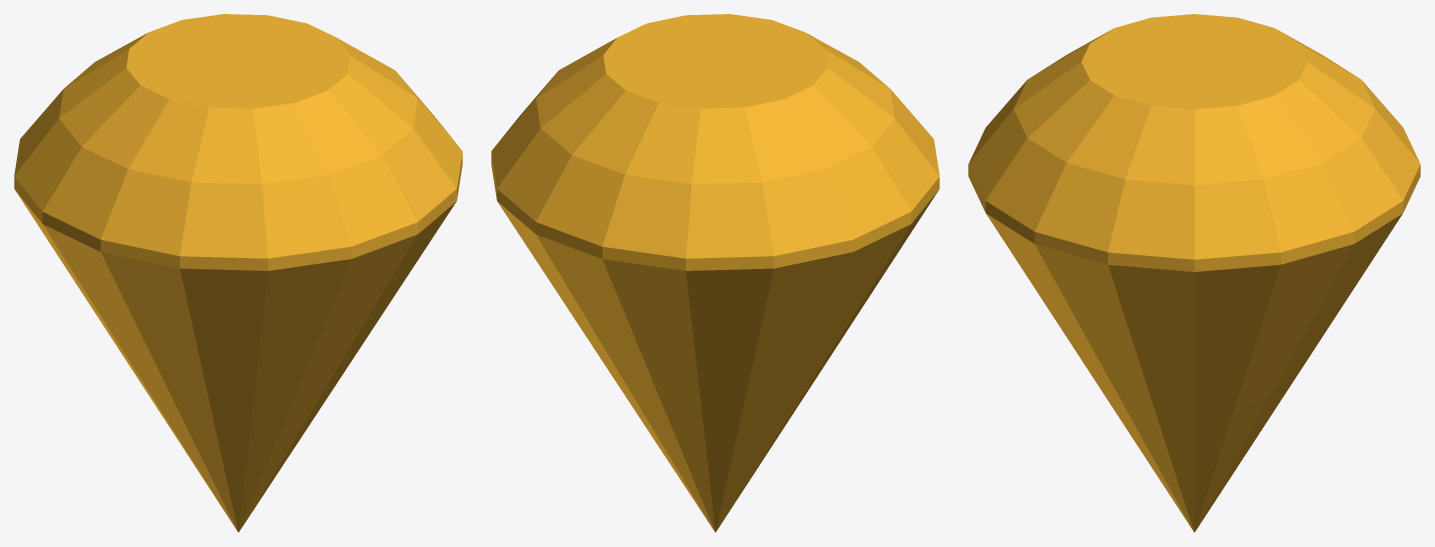
File: SM_Topaz_Perfect.fbx
3 views of the same model, side by side, from view 1: azimuth 30°, elevation 25°; view 2: azimuth 150°, elevation 25°; view 3: azimuth 270°, elevation 25° (orthographic).
Visible parts, largest first — view 1: SM_Topaz_Perfect; view 2: SM_Topaz_Perfect; view 3: SM_Topaz_Perfect.
Part boxes in pixels (x1,y1,x2,y2): SM_Topaz_Perfect: (14,14,462,532); SM_Topaz_Perfect: (491,14,939,532); SM_Topaz_Perfect: (968,14,1420,532).
Size of the model in its own units: 20 by 20 by 23.
